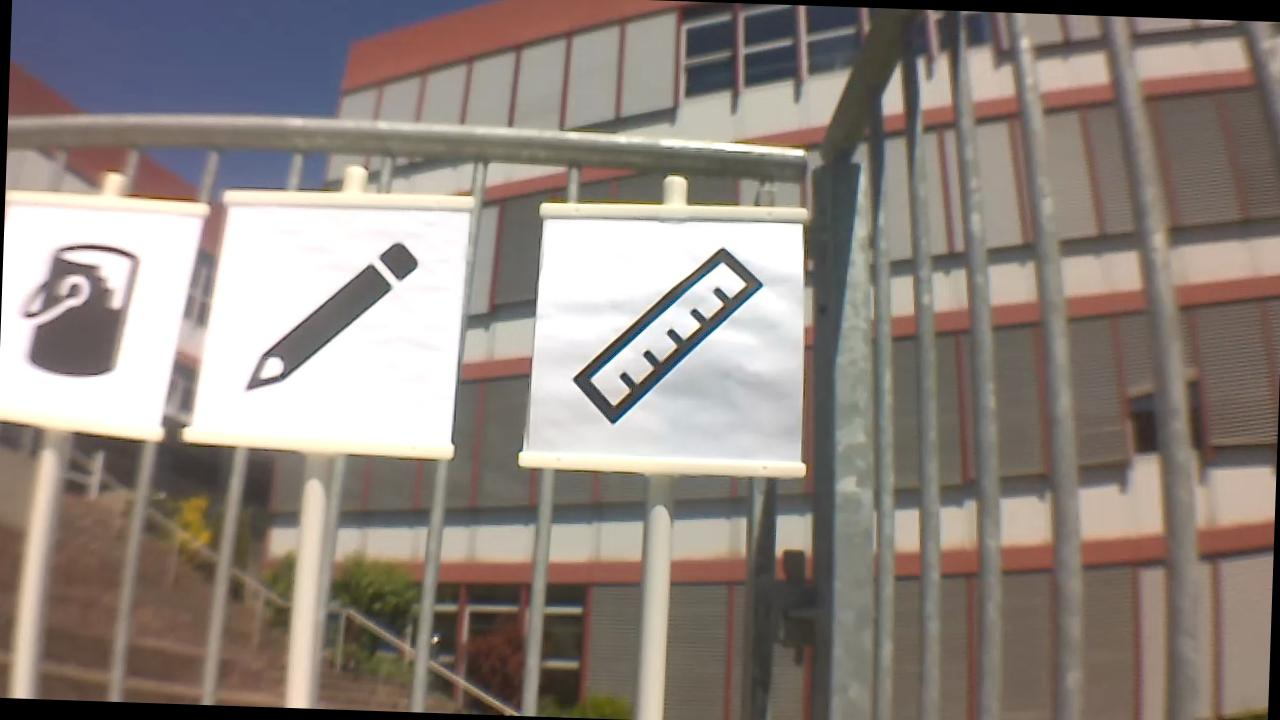bucket: (10, 237, 147, 387)
pencil: (236, 236, 426, 401)
ruler: (579, 230, 767, 431)
